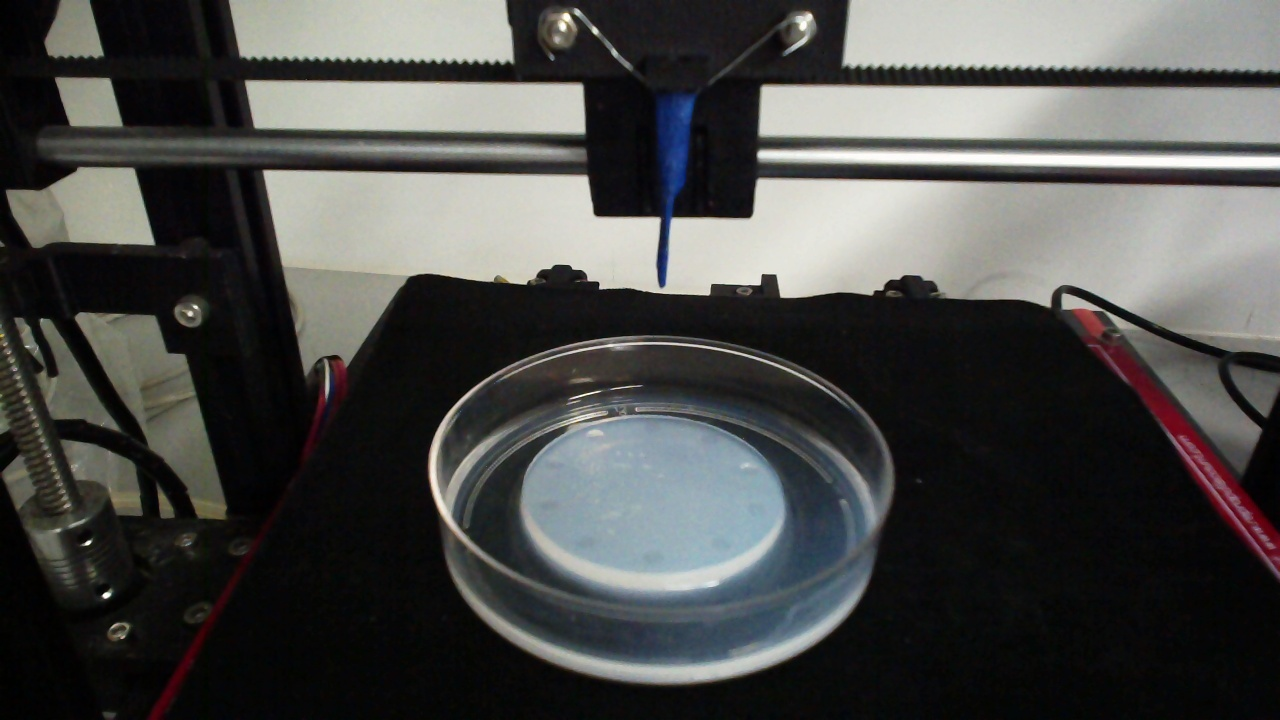groove: (709, 534, 732, 554), (642, 548, 667, 566), (574, 533, 595, 550), (544, 456, 566, 472), (538, 498, 560, 514), (746, 501, 768, 517), (737, 463, 758, 476), (585, 428, 605, 441), (698, 433, 717, 446), (642, 421, 661, 434)
needle: (657, 92, 695, 288)
